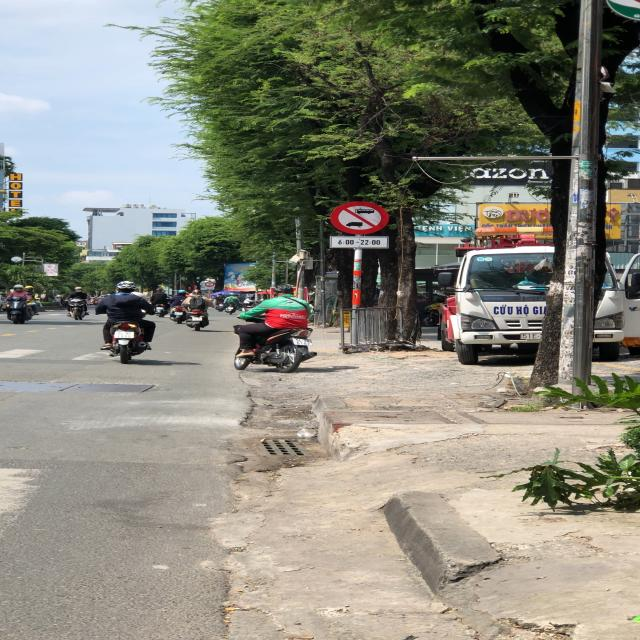Bien bao cam xe oto khach va xe oto tai: (324, 199, 393, 237)
